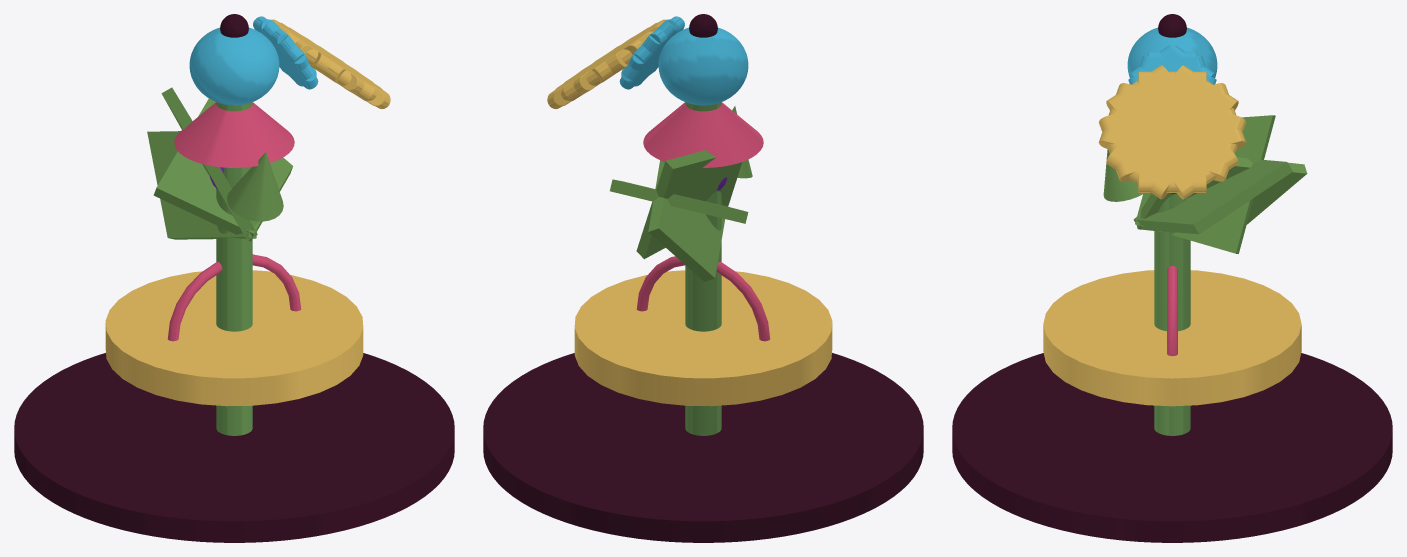
Rendered from 0093_植物图鉴_金丝桃.glb.
The picture shows the model from 3 angles, left to right: view 1: azimuth 30°, elevation 25°; view 2: azimuth 150°, elevation 25°; view 3: azimuth 270°, elevation 25°; orthographic projection.
Visible parts, largest first — view 1: card_0093; view 2: card_0093; view 3: card_0093.
Boxes of the visible parts, box(x1,y1,x2,y2) form: card_0093: box(14, 14, 454, 542); card_0093: box(483, 14, 923, 542); card_0093: box(952, 14, 1392, 542).
Bounding box in the file's own units: 0.9189 × 1 × 0.9189.
